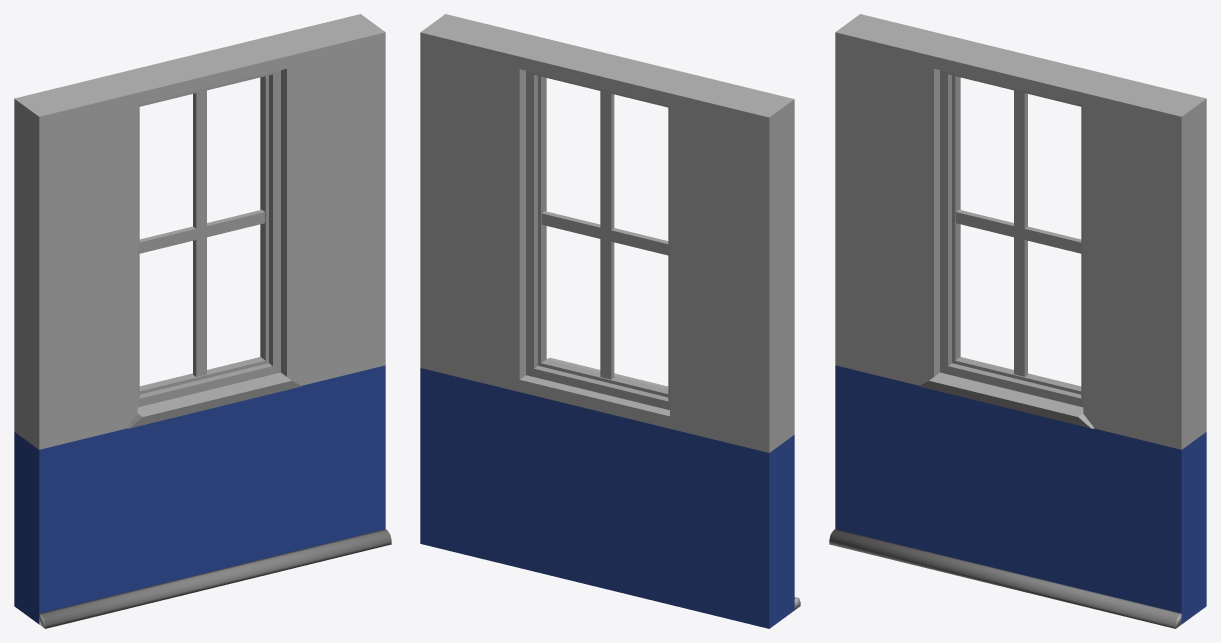
The model's file is Wall Window.fbx.
3 renders of one model, left to right at view 1: azimuth 30°, elevation 25°; view 2: azimuth 150°, elevation 25°; view 3: azimuth 330°, elevation 25°, orthographic.
Parts seen in each view (by area): view 1: Wall Window Normal, Window Frame; view 2: Wall Window Normal, Window Frame; view 3: Wall Window Normal, Window Frame.
Part boxes in pixels (left/top/right/bottom): Wall Window Normal: left=14, top=14, right=391, bottom=628; Window Frame: left=137, top=70, right=280, bottom=407; Wall Window Normal: left=420, top=14, right=800, bottom=628; Window Frame: left=526, top=70, right=669, bottom=410; Wall Window Normal: left=829, top=14, right=1206, bottom=628; Window Frame: left=940, top=70, right=1083, bottom=407.
Size of the model in its own units: 200 by 280 by 31.07.
Materials: 3 (1 with a texture image).
